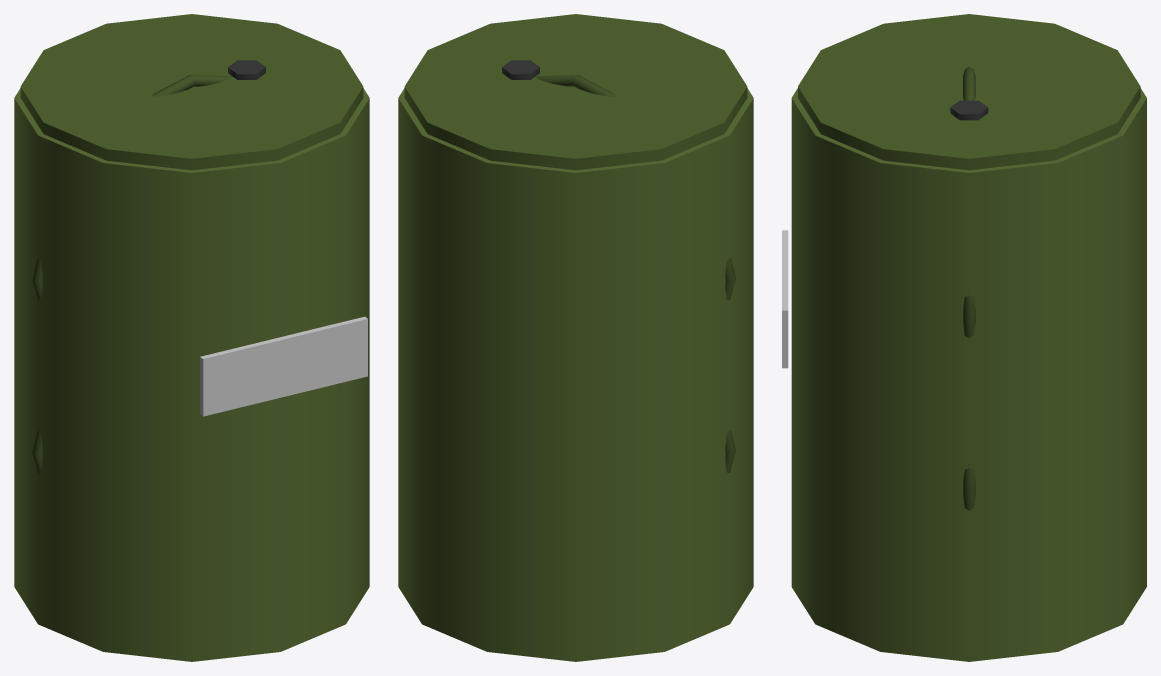
File: fuel-drum.glb
The picture shows the model from 3 angles, left to right: view 1: azimuth 30°, elevation 25°; view 2: azimuth 150°, elevation 25°; view 3: azimuth 270°, elevation 25°; orthographic projection.
Parts seen in each view (by area): view 1: Mesh_DrumBody, Mesh_TopLid, Mesh_StencilStripe, Mesh_RibUpper, Mesh_TopBung; view 2: Mesh_DrumBody, Mesh_TopLid, Mesh_RibUpper, Mesh_TopBung; view 3: Mesh_DrumBody, Mesh_TopLid, Mesh_StencilStripe, Mesh_RibUpper, Mesh_TopBung.
Part boxes in pixels (x1=…): Mesh_DrumBody: x1=14, y1=88, x2=369, y2=661; Mesh_TopLid: x1=20, y1=14, x2=363, y2=170; Mesh_StencilStripe: x1=200, y1=316, x2=367, y2=416; Mesh_RibUpper: x1=32, y1=75, x2=232, y2=300; Mesh_TopBung: x1=228, y1=60, x2=265, y2=79; Mesh_DrumBody: x1=398, y1=88, x2=753, y2=661; Mesh_TopLid: x1=404, y1=14, x2=747, y2=170; Mesh_RibUpper: x1=535, y1=75, x2=735, y2=300; Mesh_TopBung: x1=502, y1=60, x2=539, y2=79; Mesh_DrumBody: x1=791, y1=88, x2=1146, y2=661; Mesh_TopLid: x1=798, y1=14, x2=1140, y2=170; Mesh_StencilStripe: x1=782, y1=230, x2=788, y2=368; Mesh_RibUpper: x1=963, y1=66, x2=975, y2=338; Mesh_TopBung: x1=950, y1=100, x2=988, y2=120.
Size of the model in its own units: 0.58 by 0.89 by 0.575.
